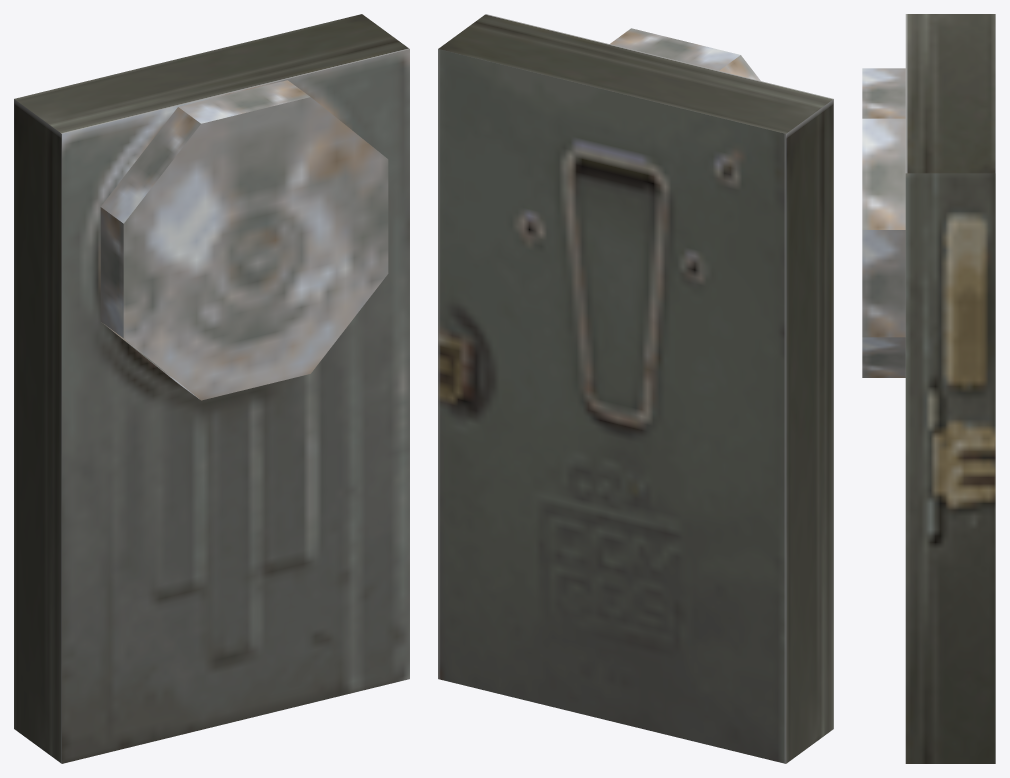
The model's file is pocket_flashlight.fbx.
The picture shows the model from 3 angles, left to right: view 1: azimuth 30°, elevation 25°; view 2: azimuth 150°, elevation 25°; view 3: azimuth 270°, elevation 25°; orthographic projection. The views are drawn at different scales.
Parts seen in each view (by area): view 1: Circle; view 2: Circle; view 3: Circle.
Part boxes in pixels (x1=…): Circle: x1=14, y1=14, x2=409, y2=763; Circle: x1=438, y1=14, x2=833, y2=763; Circle: x1=862, y1=14, x2=995, y2=763.
Bounding box in the file's own units: 14.03 × 24.27 × 4.95.
1 material, 1 textured.
